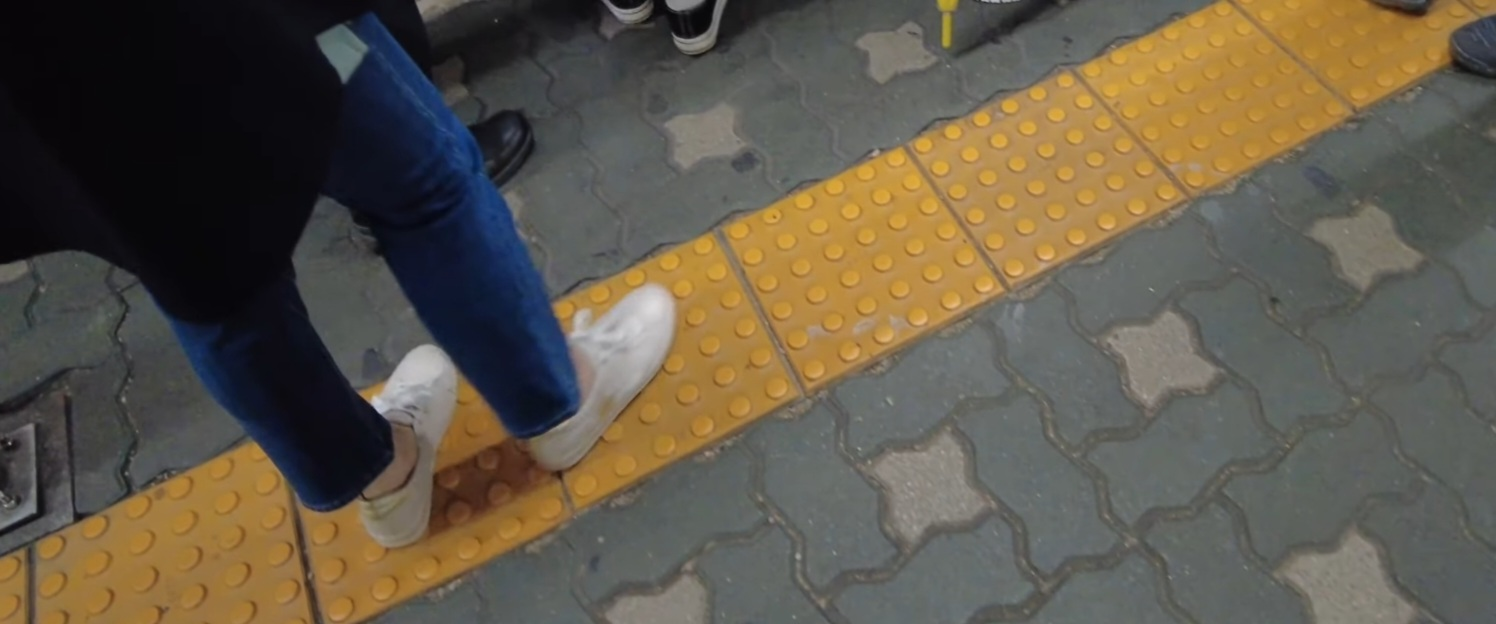warningBlock: (271, 378, 575, 580), (742, 158, 991, 354), (58, 474, 358, 624), (559, 265, 793, 434), (917, 101, 1166, 257), (1097, 22, 1336, 156), (1271, 1, 1460, 62)
